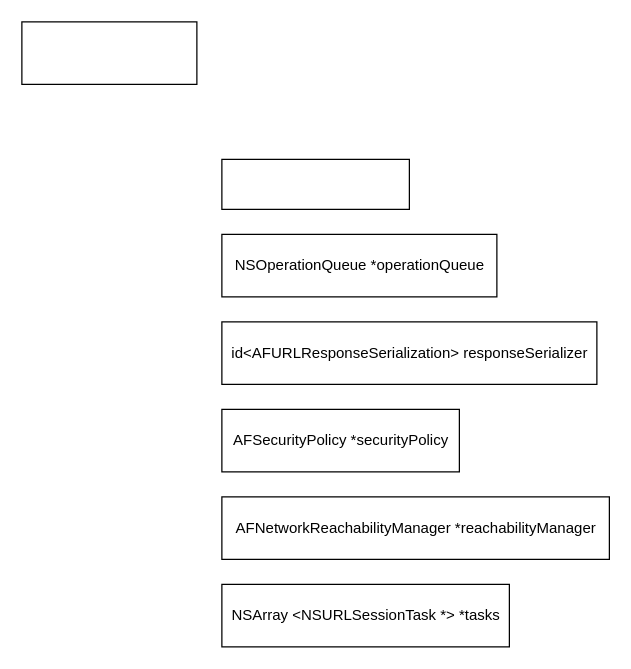
Some shapes in this 631 by 669 pixel diagram are drawn without their labels. The shapes that lost their labels are listed below. From the top down, each one's centre as x and y in pixels, then its label:
At pixel 109 52: "AFURLSessionManager".
At pixel 315 183: "NSURLSession *session".
